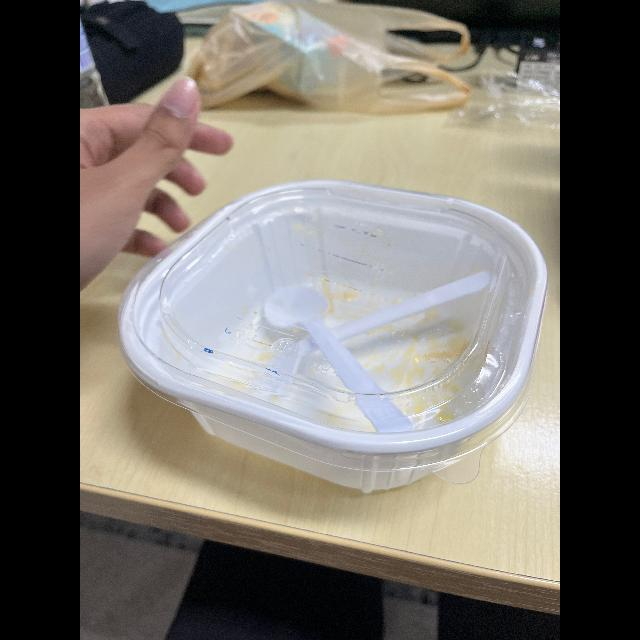plastic_box: (110, 175, 550, 501)
